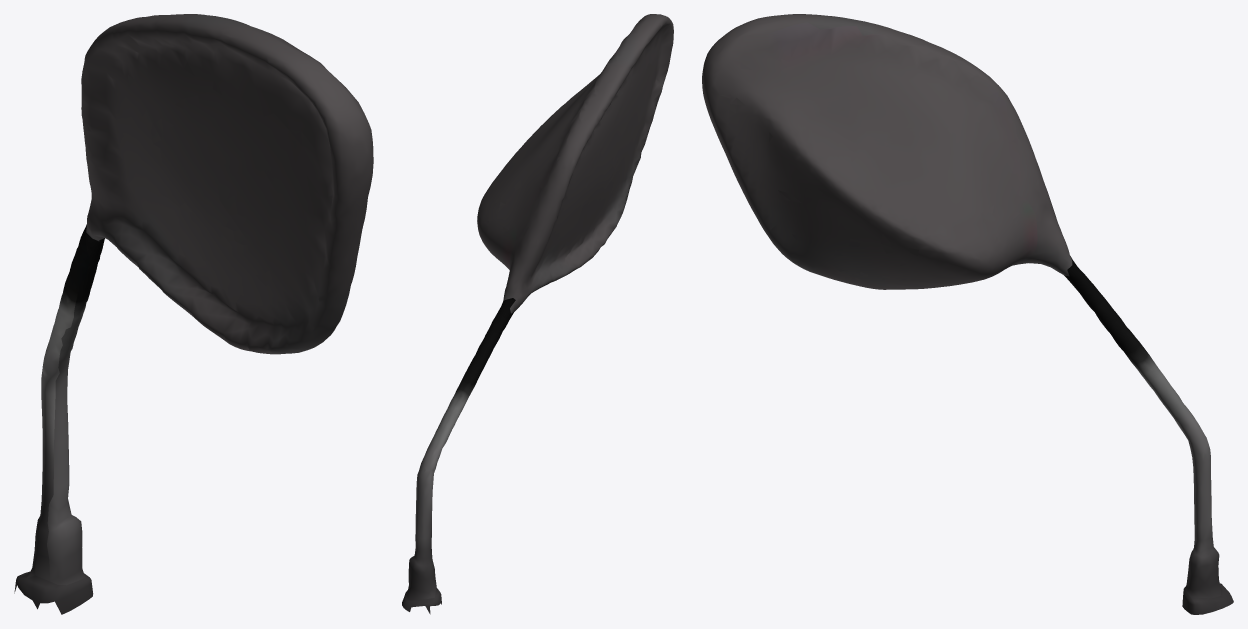
Rendered from blt150_02.obj.
3 views of the same model, side by side, from view 1: azimuth 30°, elevation 25°; view 2: azimuth 150°, elevation 25°; view 3: azimuth 270°, elevation 25° (orthographic). The views are drawn at different scales.
Bounding box in the file's own units: 0.3337 × 1.27 × 1.09.
